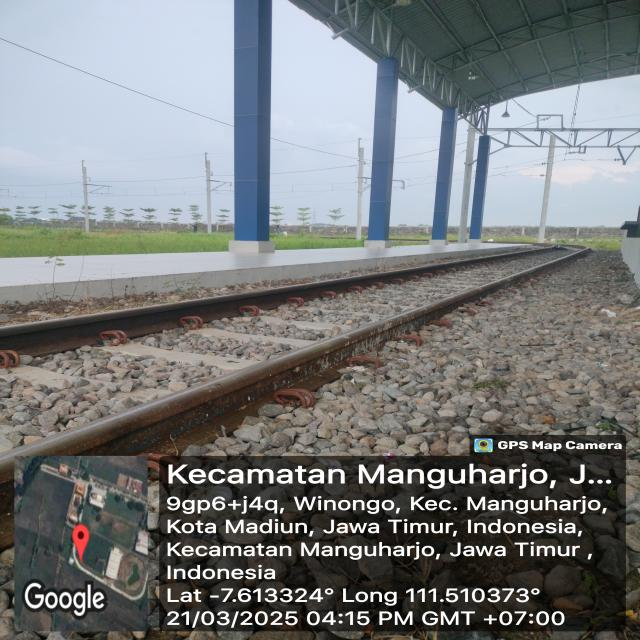rail-detection: (0, 248, 589, 481), (0, 247, 556, 355), (349, 245, 550, 281), (489, 249, 590, 289), (134, 420, 192, 449)
